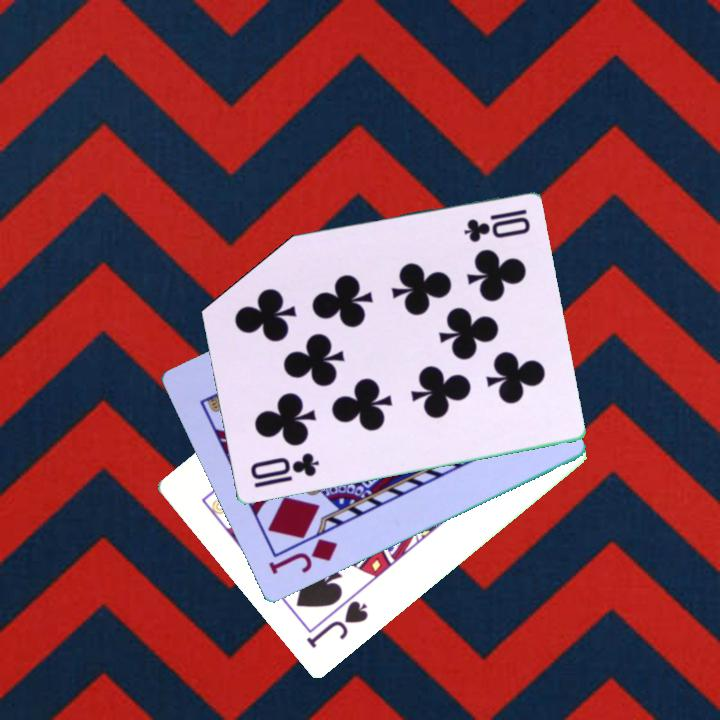10c: (246, 449, 322, 491), (459, 206, 533, 246)
Jd: (264, 526, 341, 578)
Js: (302, 597, 372, 652)
